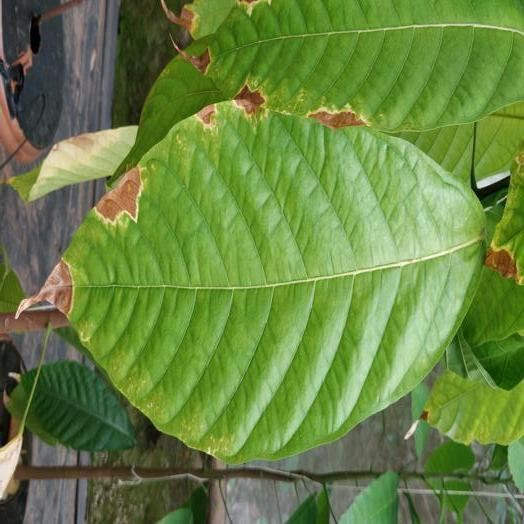Healthy Leaf: (40, 102, 484, 461), (204, 0, 523, 130)
